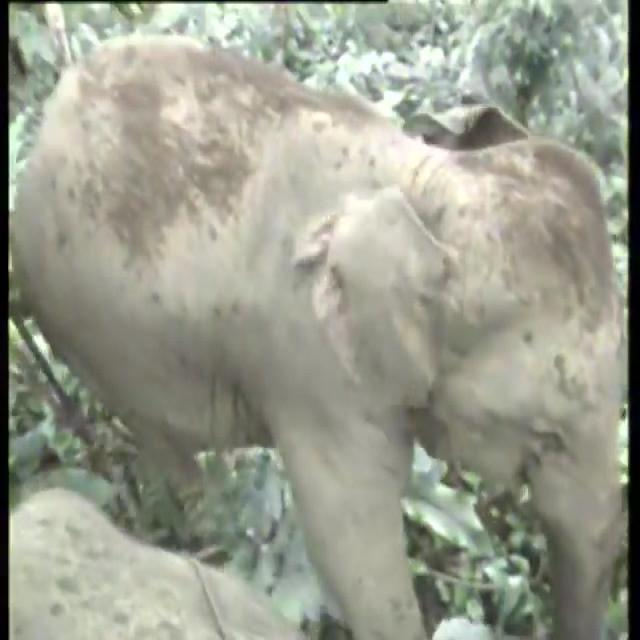Elephant: (64, 51, 616, 564)
